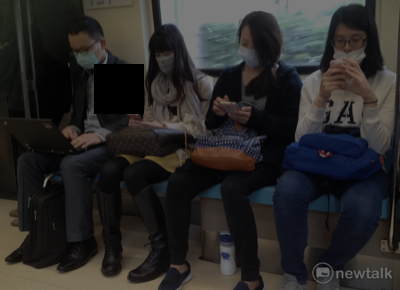mask_weared_incorrect: (333, 31, 366, 65)
with_mask: (68, 42, 105, 69), (238, 34, 262, 69), (154, 47, 178, 74)
